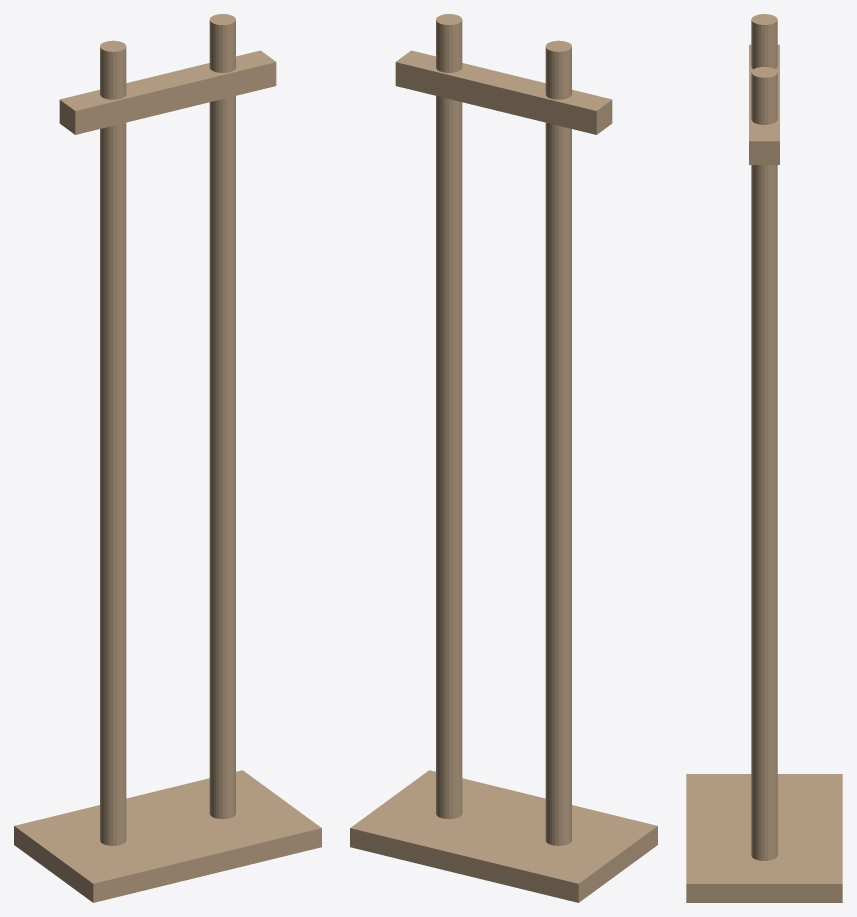
The model's file is coat_rack-PRIM-002.glb.
3 views of the same model, side by side, from view 1: azimuth 30°, elevation 25°; view 2: azimuth 150°, elevation 25°; view 3: azimuth 270°, elevation 25° (orthographic).
Visible parts, largest first — view 1: p3, p0, p1, p2; view 2: p3, p0, p1, p2; view 3: p1, p3, p2, p0.
Boxes of the visible parts, box(x1,y1,x2,y2) form: p3: box(14, 770, 321, 902); p0: box(100, 40, 126, 845); p1: box(209, 14, 235, 819); p2: box(59, 50, 276, 134); p3: box(350, 770, 657, 902); p0: box(545, 40, 571, 845); p1: box(436, 14, 462, 819); p2: box(395, 50, 612, 134); p1: box(751, 66, 777, 860); p3: box(686, 774, 842, 902); p2: box(749, 44, 779, 164); p0: box(751, 14, 777, 69).
Size of the model in its own units: 0.5 by 1.7 by 0.3.
